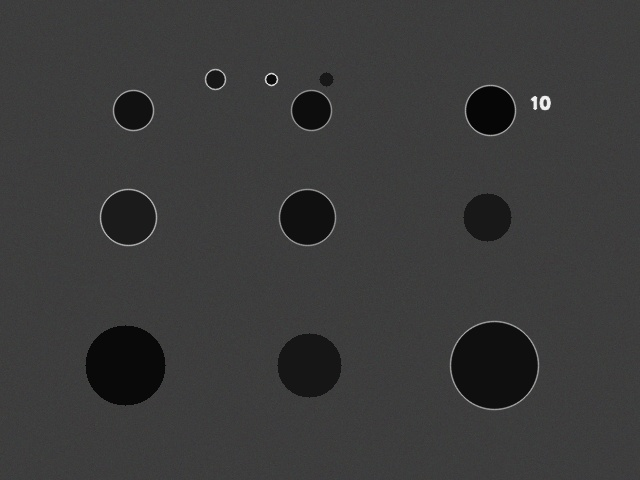hole: (450, 321, 538, 409), (85, 325, 165, 405), (277, 333, 341, 397), (100, 189, 156, 245), (279, 189, 335, 245), (465, 85, 515, 135), (463, 193, 511, 241), (113, 90, 153, 130), (291, 90, 331, 130), (205, 69, 225, 89), (319, 72, 333, 86), (265, 73, 277, 85)
